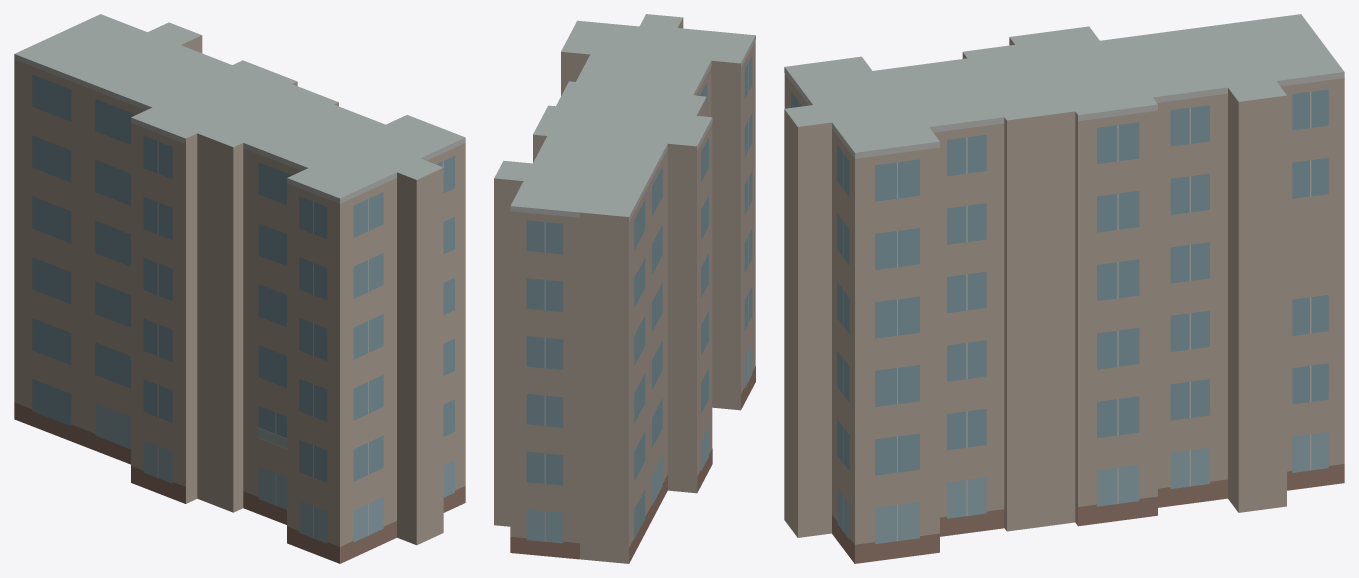
File: survey-upis-32927205.glb
The picture shows the model from 3 angles, left to right: view 1: azimuth 30°, elevation 25°; view 2: azimuth 150°, elevation 25°; view 3: azimuth 270°, elevation 25°; orthographic projection. The views are drawn at different scales.
Parts seen in each view (by area): view 1: survey-upis-32927205.tmp; view 2: survey-upis-32927205.tmp; view 3: survey-upis-32927205.tmp.
Boxes of the visible parts, x1,y1,x2,y2 form: survey-upis-32927205.tmp: [14, 14, 465, 563]; survey-upis-32927205.tmp: [494, 14, 755, 563]; survey-upis-32927205.tmp: [784, 14, 1344, 563].
Size of the model in its own units: 11.96 by 16.5 by 20.39.
